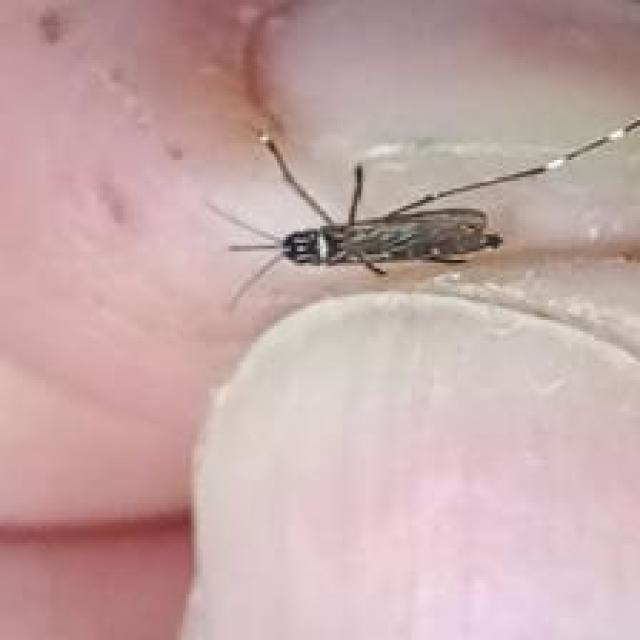Aedes albopictus: (204, 100, 639, 311)
